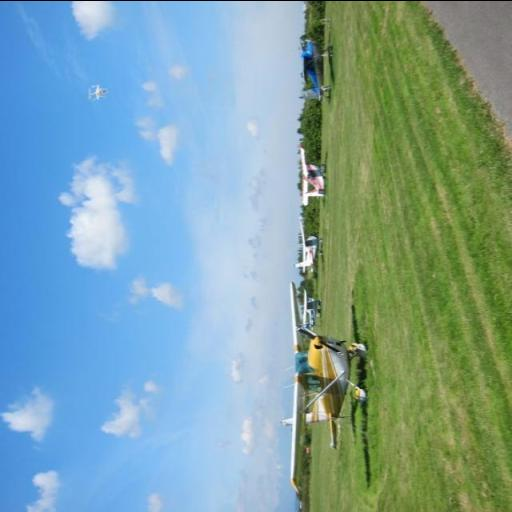uav: (282, 278, 382, 492)
